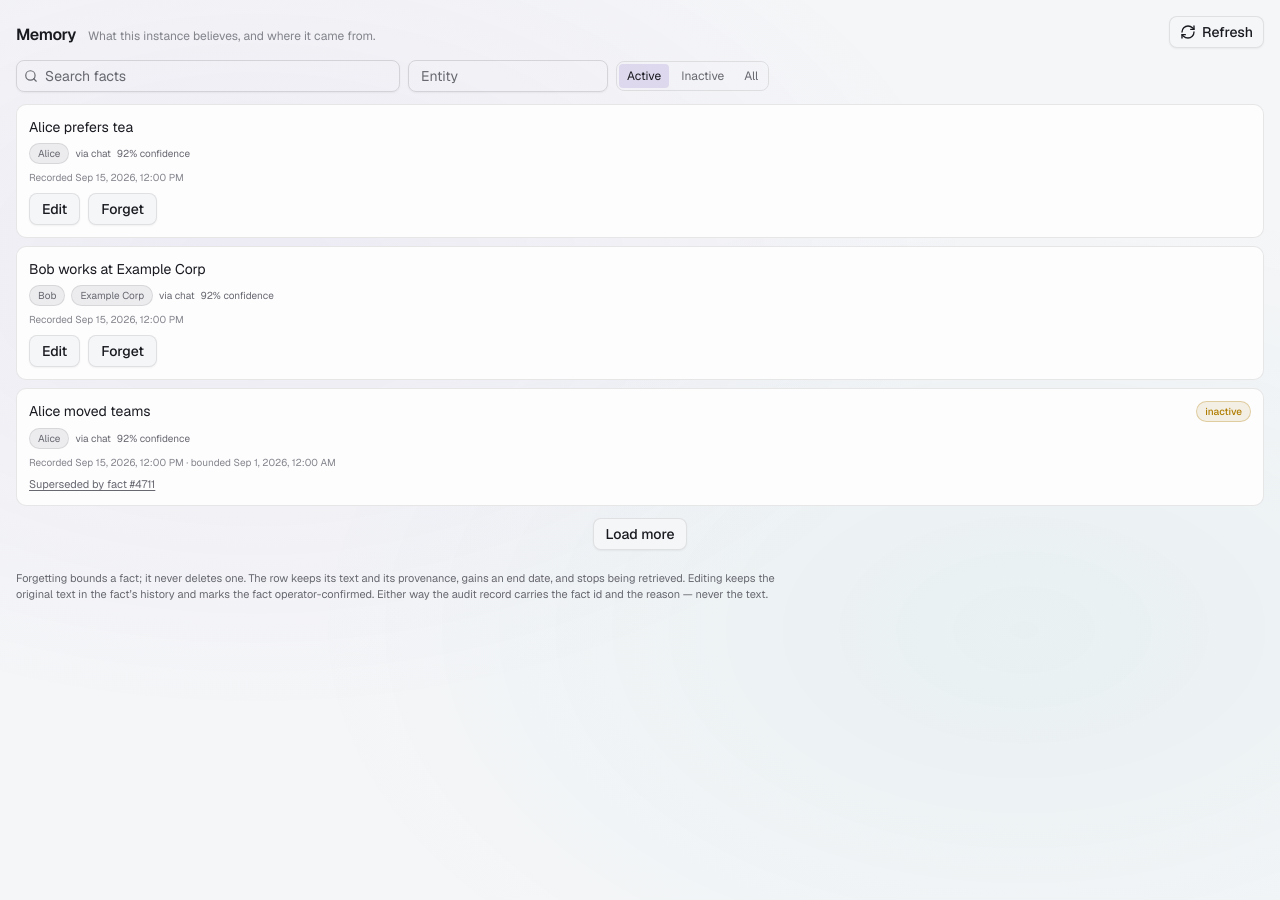
Test: Observe › Memory › pages with the keyset cursor and appends, never replaces
Expected: the element with test id "memory-fact-4711" is shown, [16, 104, 1264, 238]
Step 1. Click the button with test id "memory-load-more" → (640, 534), box [592, 518, 688, 550]
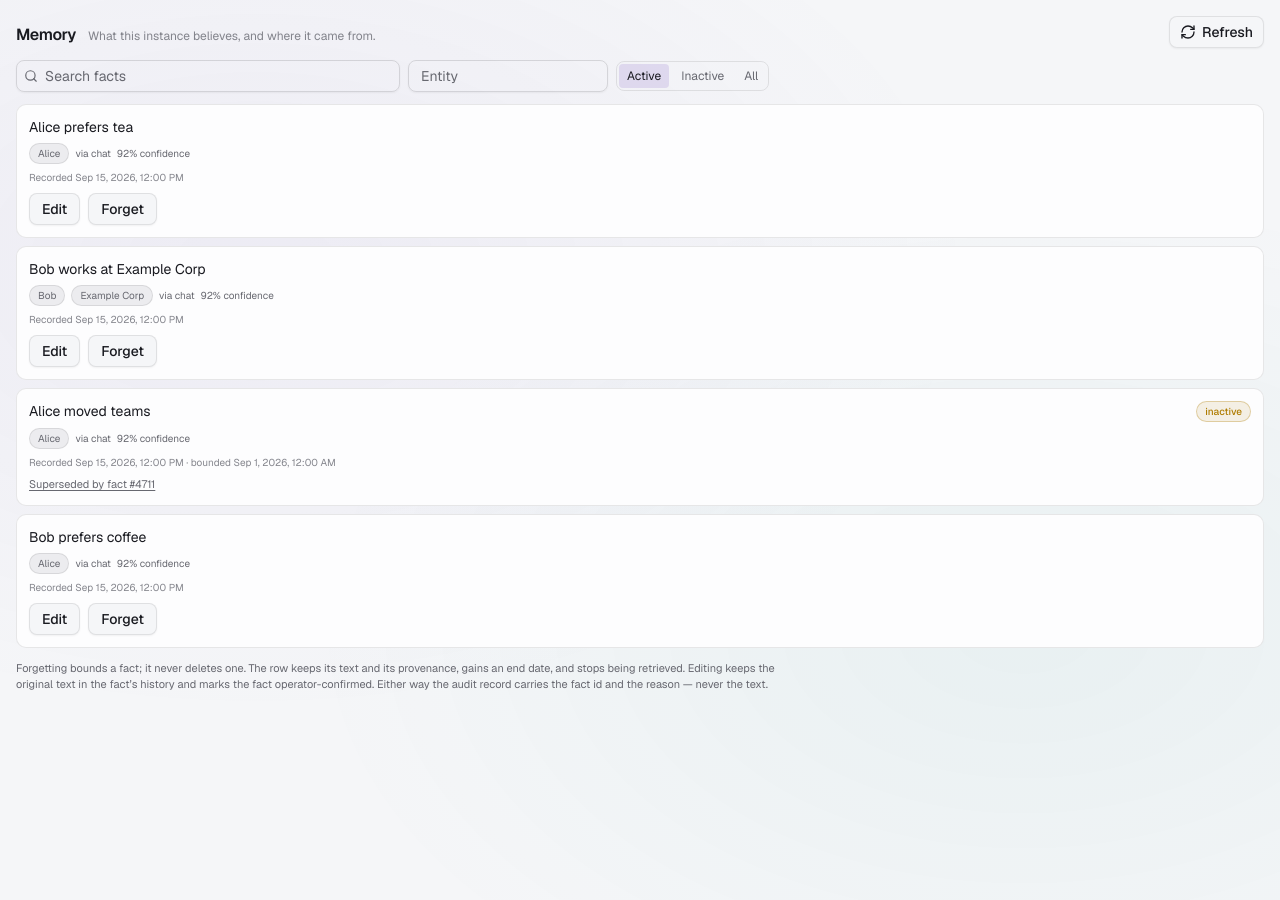
Expected: the element with test id "memory-fact-4711" is shown, [16, 104, 1264, 238]
Now the element with test id "memory-fact-4708" is shown, box [16, 514, 1264, 648]
Now the button with test id "memory-load-more" is gone
